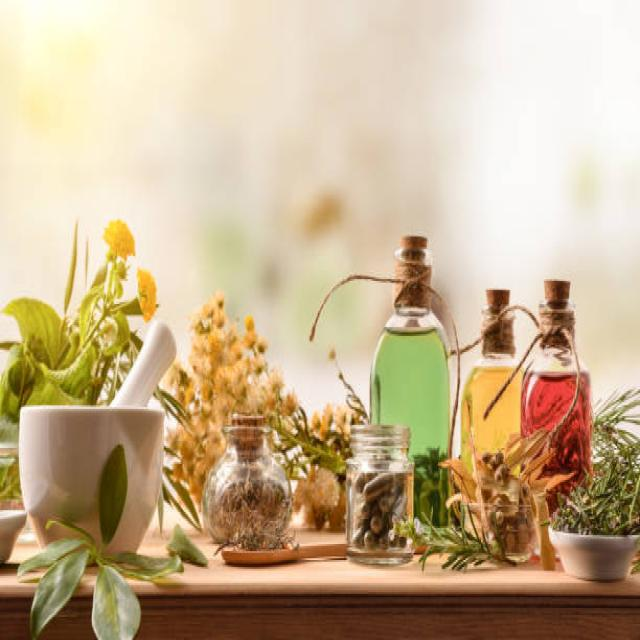Bottle: (371, 237, 449, 524), (202, 415, 292, 549), (461, 290, 521, 471), (347, 425, 414, 565), (543, 361, 592, 513)
